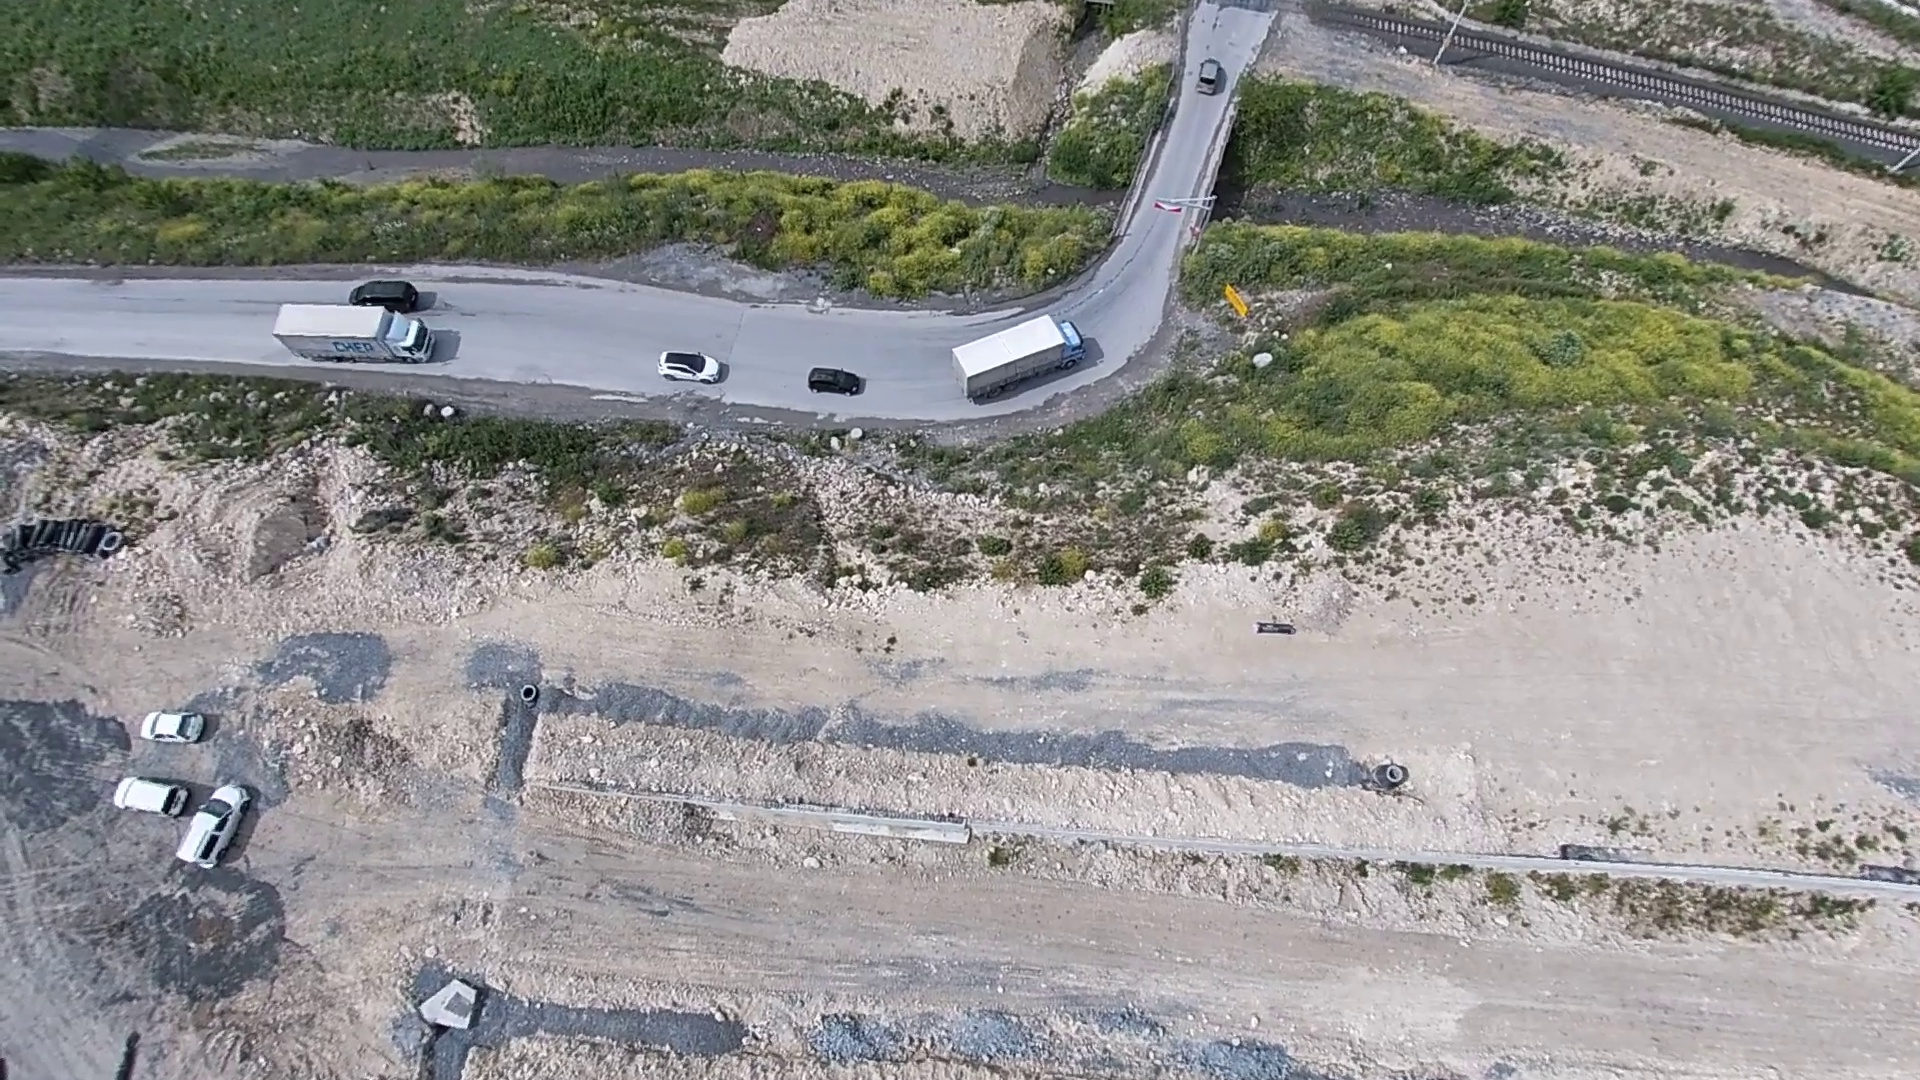arac: (947, 307, 1097, 407), (266, 301, 442, 367), (175, 781, 255, 872), (107, 778, 195, 819), (136, 703, 215, 745), (347, 276, 425, 316), (654, 345, 727, 386), (800, 361, 865, 396), (1191, 57, 1222, 100)
